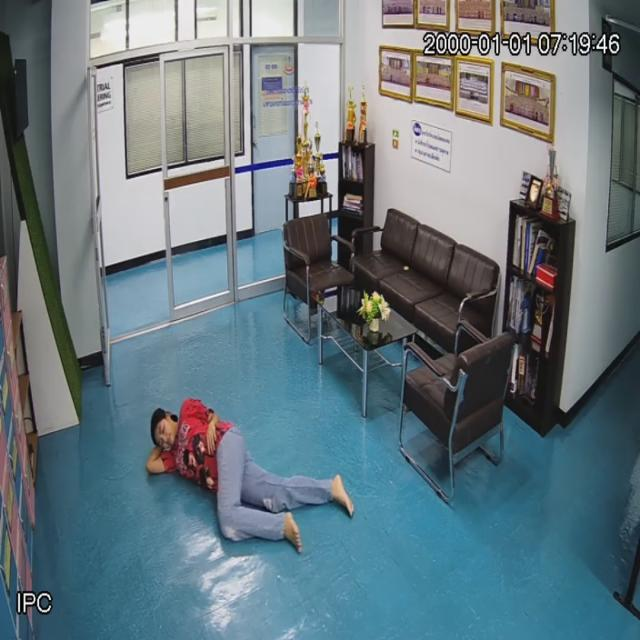fall: (148, 398, 304, 548)
